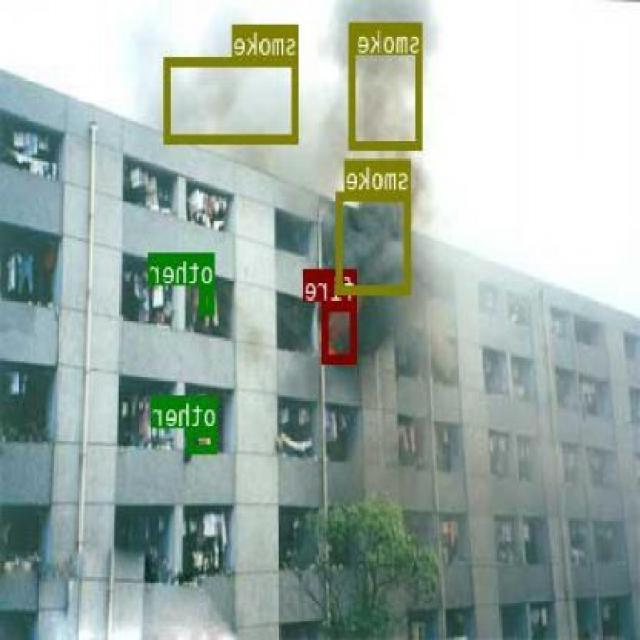Fire: (324, 300, 358, 362)
Smoke: (166, 56, 300, 142), (350, 21, 424, 147), (338, 190, 412, 292)
